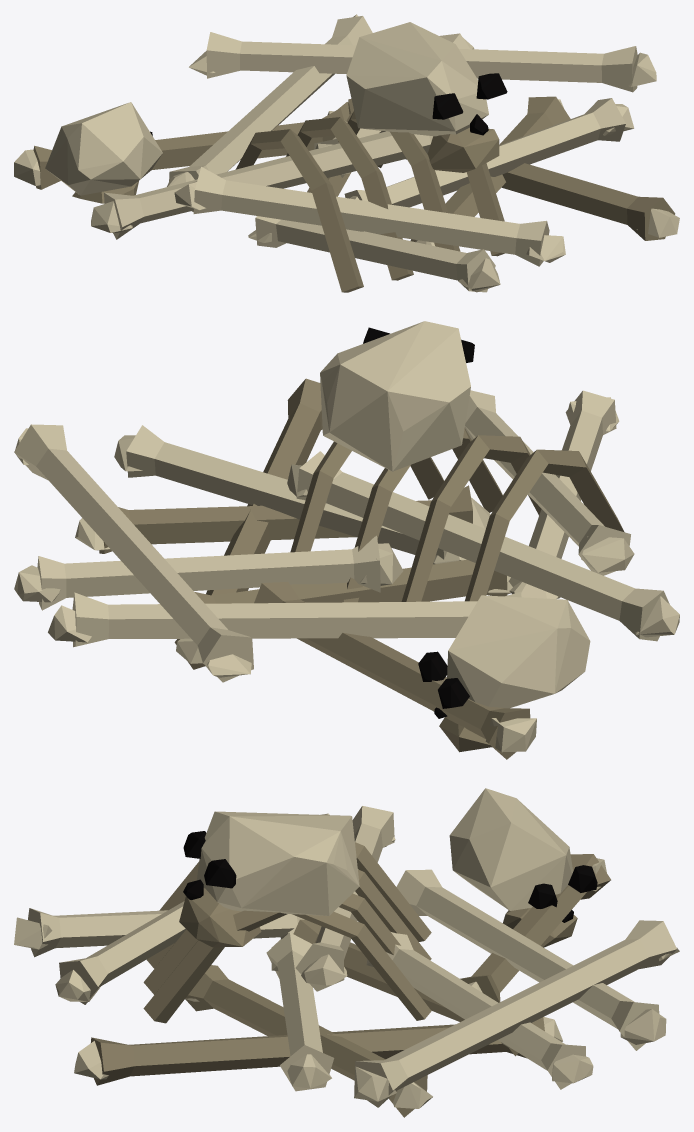
File: bones.glb
The picture shows the model from 3 angles, top to bottom: view 1: azimuth 30°, elevation 25°; view 2: azimuth 150°, elevation 25°; view 3: azimuth 270°, elevation 25°; orthographic projection. The views are drawn at different scales.
Parts seen in each view (by area): view 1: Bones; view 2: Bones; view 3: Bones.
Boxes of the visible parts, x1,y1,x2,y2 form: Bones: (14,14,679,292); Bones: (14,321,679,759); Bones: (14,788,679,1117).
Bounding box in the file's own units: 0.8999 × 0.3123 × 0.8616.
